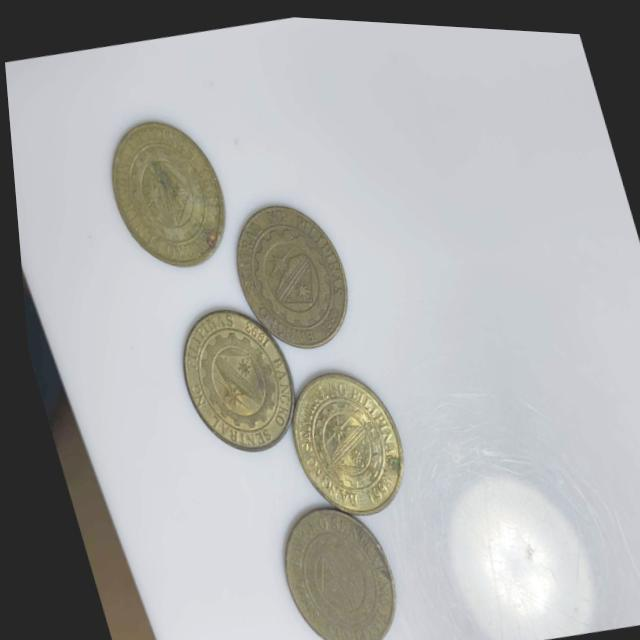25Cent_Old_Back: (157, 293, 301, 454), (218, 190, 357, 352), (99, 107, 233, 275), (260, 496, 402, 640), (270, 362, 404, 510)
